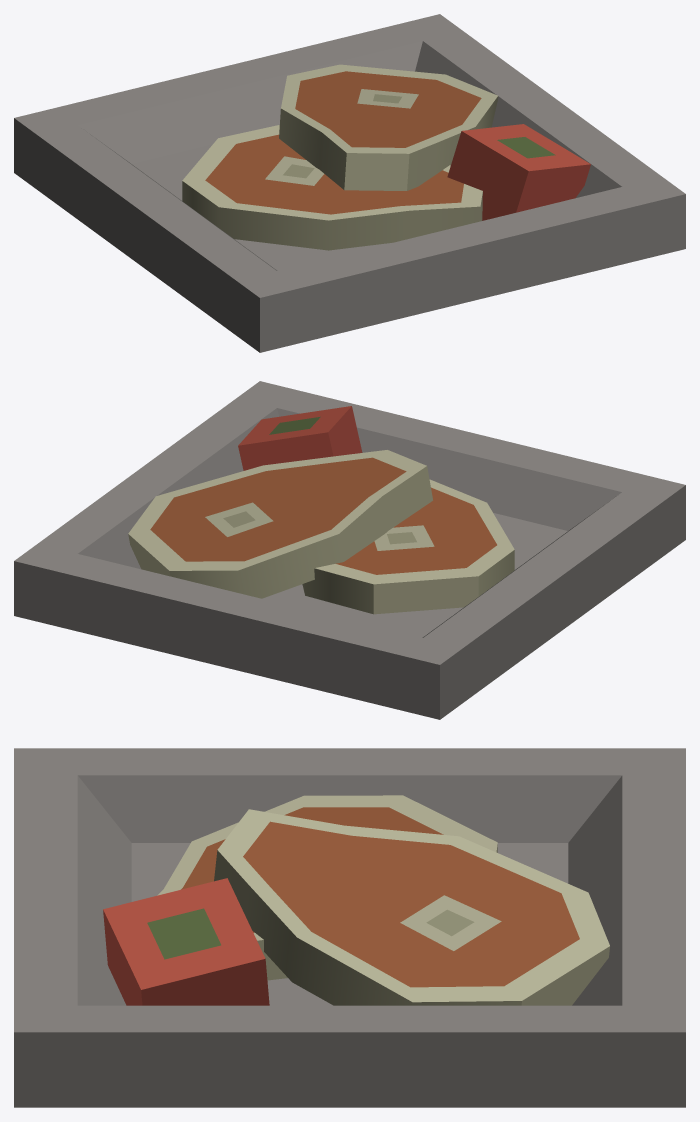
File: SM_Prop_Meal_01.glb
The picture shows the model from 3 angles, top to bottom: view 1: azimuth 30°, elevation 25°; view 2: azimuth 150°, elevation 25°; view 3: azimuth 270°, elevation 25°; orthographic projection. The views are drawn at different scales.
Visible parts, largest first — view 1: SM_Prop_Meal_01; view 2: SM_Prop_Meal_01; view 3: SM_Prop_Meal_01.
Boxes of the visible parts, left/top/right/bottom form: SM_Prop_Meal_01: left=14, top=14, right=685, bottom=352; SM_Prop_Meal_01: left=14, top=381, right=685, bottom=719; SM_Prop_Meal_01: left=14, top=748, right=685, bottom=1107.
Bounding box in the file's own units: 0.00714 × 0.00159 × 0.00714.
Materials: 1 (1 with a texture image).
